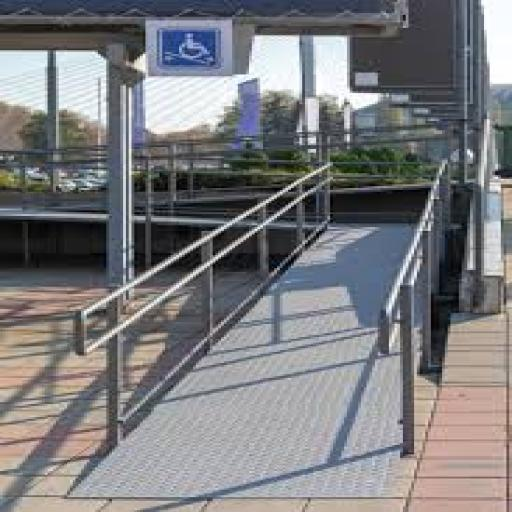ramp: (70, 211, 439, 498)
